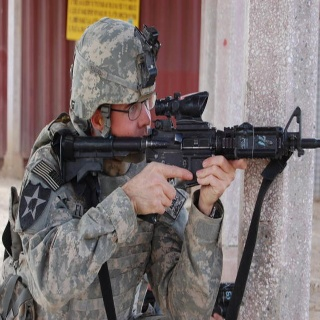rifle: (52, 89, 320, 187)
